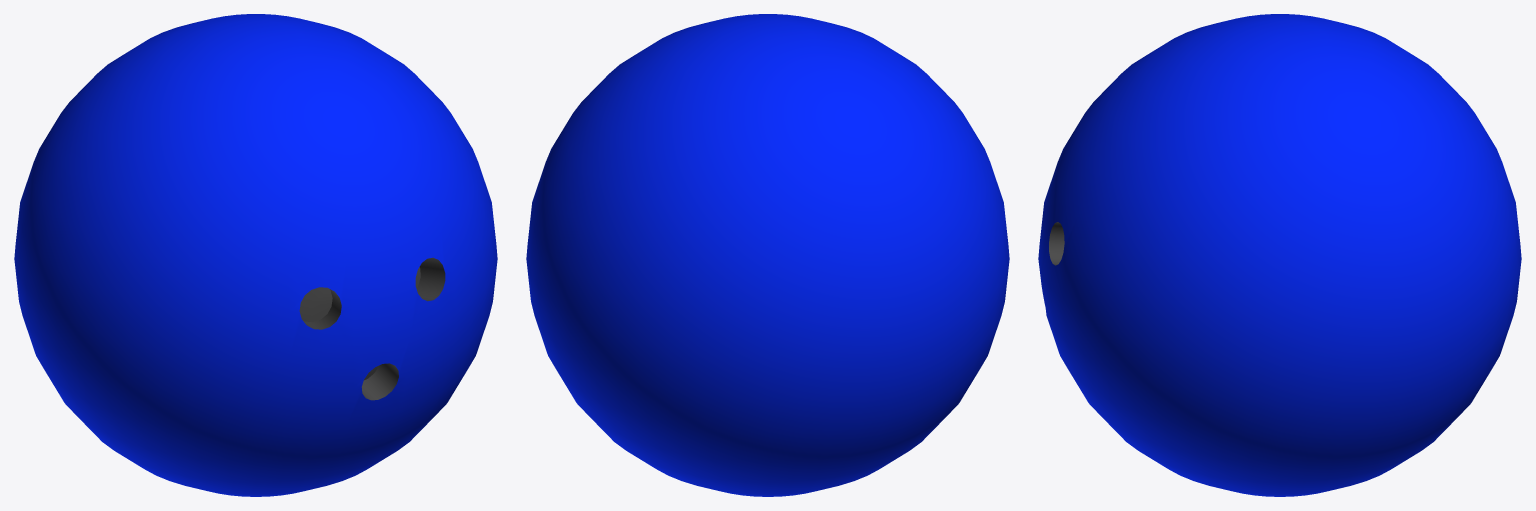
Rendered from Bowling_1.fbx.
3 views of the same model, side by side, from view 1: azimuth 30°, elevation 25°; view 2: azimuth 150°, elevation 25°; view 3: azimuth 270°, elevation 25° (orthographic).
Parts seen in each view (by area): view 1: Bowling_1; view 2: Bowling_1; view 3: Bowling_1.
Boxes of the visible parts, left/top/right/bottom form: Bowling_1: left=14, top=14, right=497, bottom=496; Bowling_1: left=526, top=14, right=1009, bottom=496; Bowling_1: left=1038, top=14, right=1521, bottom=496.
Bounding box in the file's own units: 0.1996 × 0.1998 × 0.1997.
